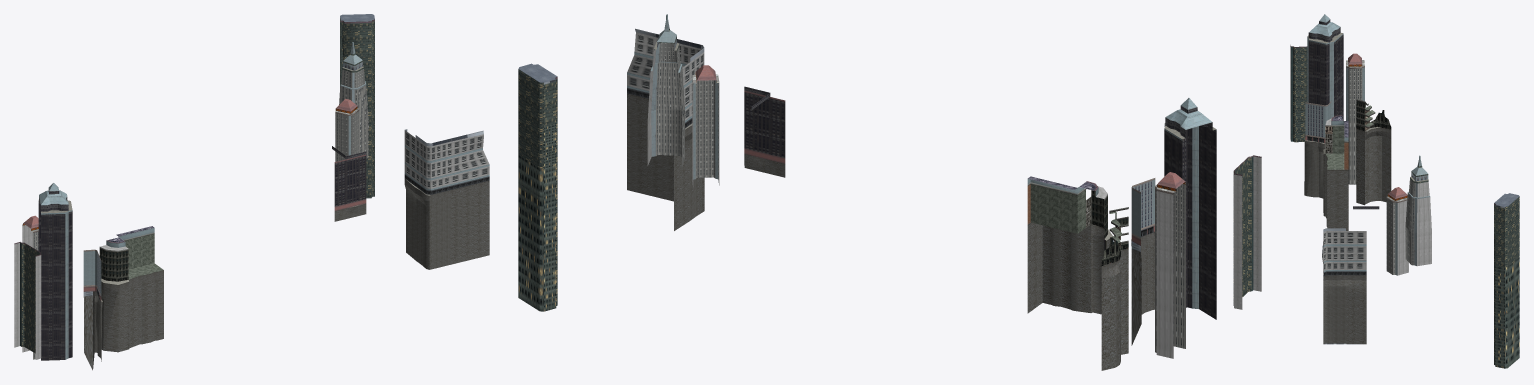
Rendered from STG0100_O_19.fbx.
3 views of the same model, side by side, from view 1: azimuth 30°, elevation 25°; view 2: azimuth 150°, elevation 25°; view 3: azimuth 270°, elevation 25° (orthographic). The views are drawn at different scales.
Parts seen in each view (by area): view 1: STG0100_O_19_default; view 2: STG0100_O_19_default; view 3: STG0100_O_19_default.
Part boxes in pixels (box(x1,y1,x2,y2)): STG0100_O_19_default: box(14, 14, 489, 370); STG0100_O_19_default: box(518, 14, 1261, 370); STG0100_O_19_default: box(1290, 14, 1519, 368).
Size of the model in its own units: 6862 by 3001 by 3138.
